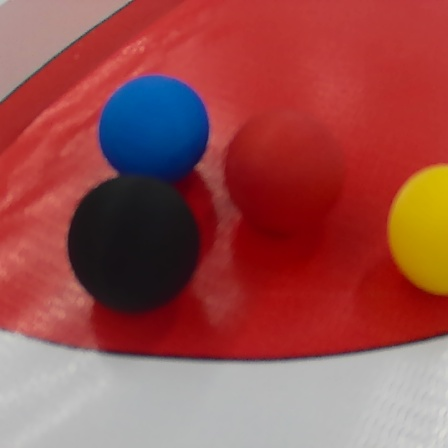black: (65, 168, 209, 316)
blue: (99, 68, 212, 179)
red: (222, 101, 341, 234)
red_base: (2, 0, 448, 356)
yellow: (386, 159, 448, 299)
